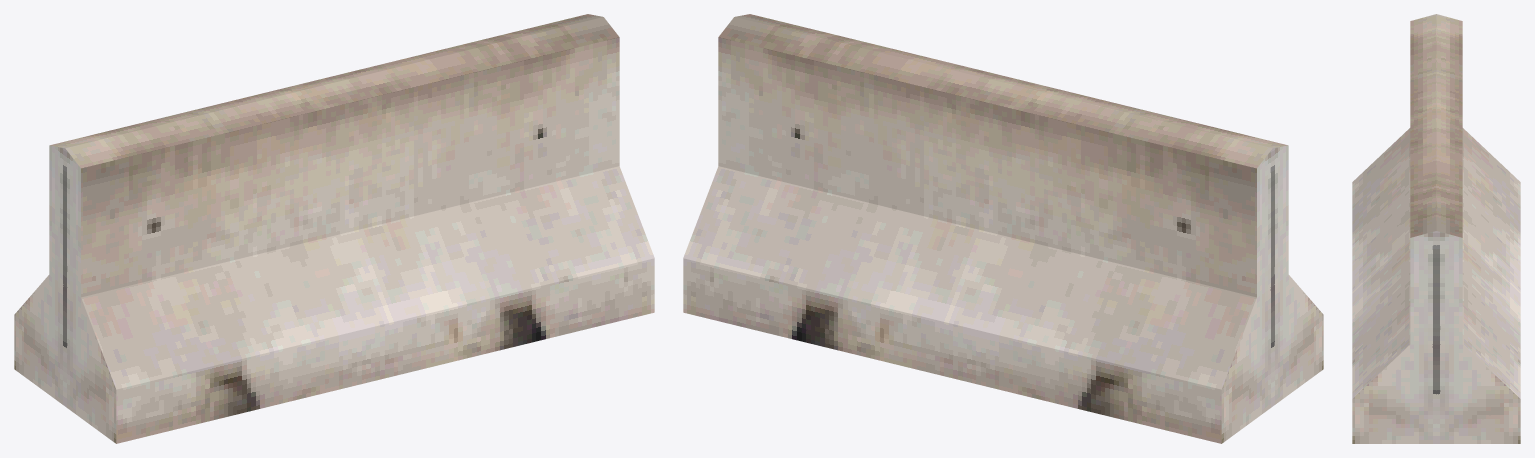
File: barrier2.glb
The picture shows the model from 3 angles, left to right: view 1: azimuth 30°, elevation 25°; view 2: azimuth 150°, elevation 25°; view 3: azimuth 270°, elevation 25°; orthographic projection. The views are drawn at different scales.
Visible parts, largest first — view 1: Jersey_barrier_concrete_barriers_0; view 2: Jersey_barrier_concrete_barriers_0; view 3: Jersey_barrier_concrete_barriers_0.
Part boxes in pixels (box(x1,y1,x2,y2)): Jersey_barrier_concrete_barriers_0: box(14, 14, 654, 443); Jersey_barrier_concrete_barriers_0: box(683, 14, 1323, 443); Jersey_barrier_concrete_barriers_0: box(1352, 14, 1520, 443).
Size of the model in its own units: 2.48 by 1.14 by 0.8144.
Materials: 1 (1 with a texture image).
